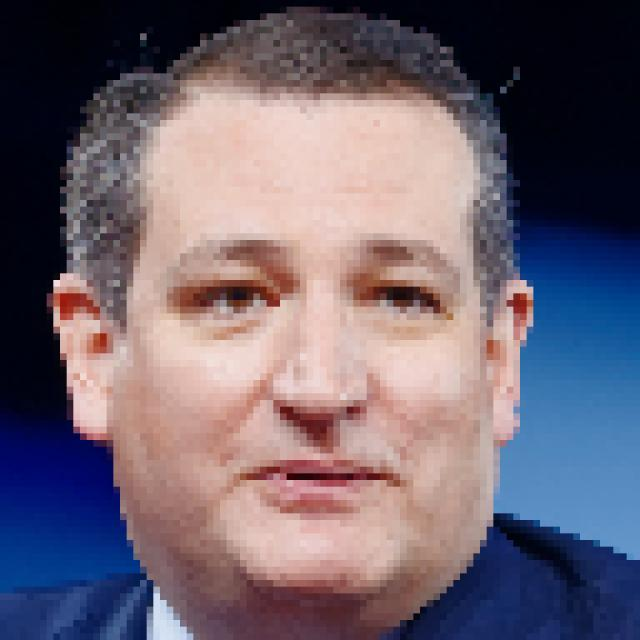happy: (100, 93, 513, 640)
